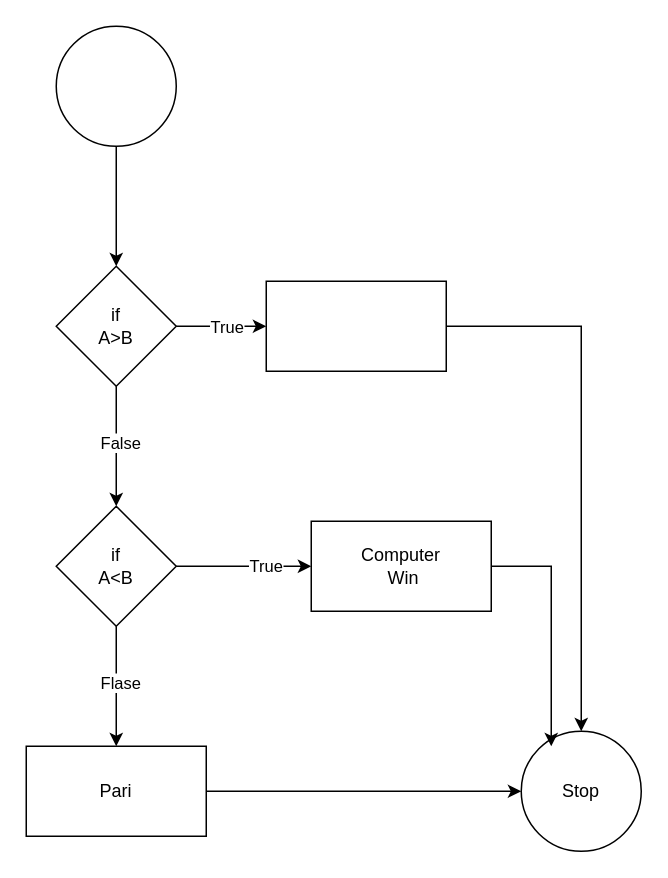
This 668x878 diagram has some shape labels left out. The box of each missing label's shape, as (x1, y1, x2, y2) in pixels:
Player Win: (265, 280, 446, 371)
Start: (55, 25, 176, 146)
